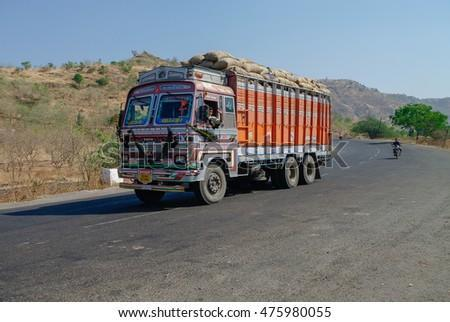truck: (118, 45, 344, 207)
